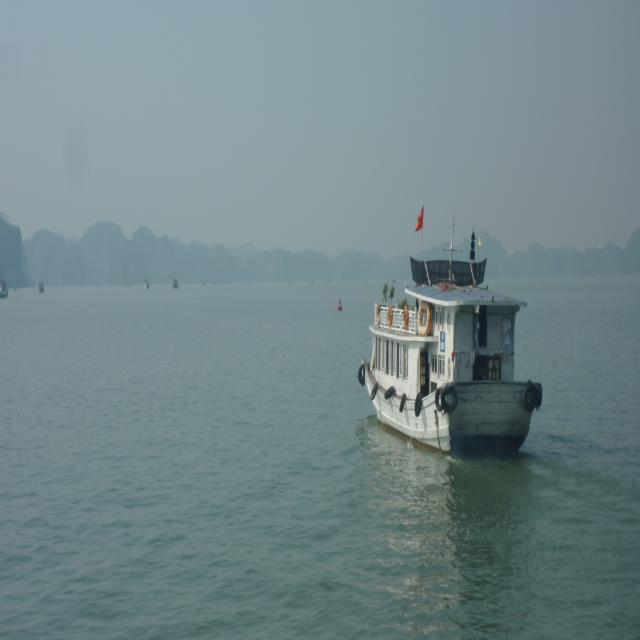fishing boat: (357, 238, 543, 461)
